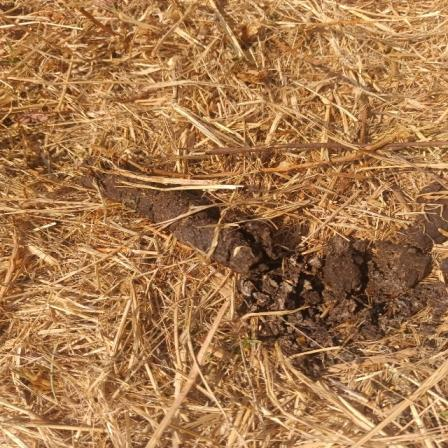dog-poop: (72, 154, 266, 290), (274, 258, 375, 346)
